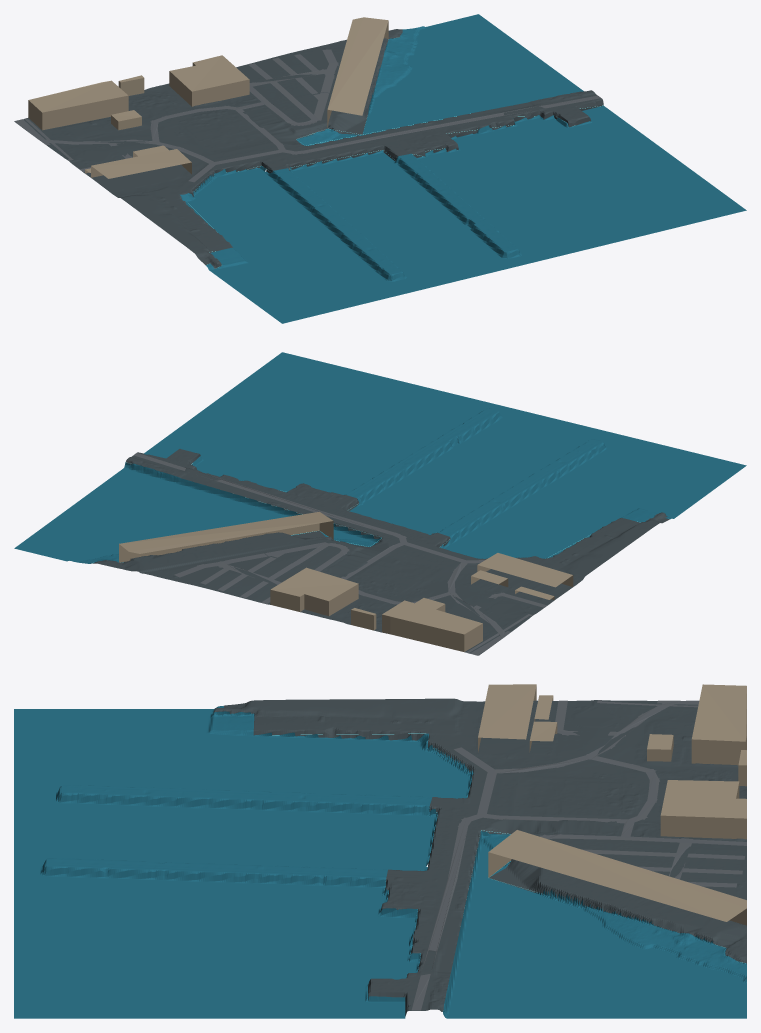
The model's file is epsg26910-1443-10884.lod0.glb.
The picture shows the model from 3 angles, top to bottom: view 1: azimuth 30°, elevation 25°; view 2: azimuth 150°, elevation 25°; view 3: azimuth 270°, elevation 25°; orthographic projection. The views are drawn at different scales.
Visible parts, largest first — view 1: epsg26910-1443-10884-lod0; view 2: epsg26910-1443-10884-lod0; view 3: epsg26910-1443-10884-lod0.
Boxes of the visible parts, x1,y1,x2,y2 form: epsg26910-1443-10884-lod0: (14,14,746,323); epsg26910-1443-10884-lod0: (14,352,746,655); epsg26910-1443-10884-lod0: (14,684,746,1018).
Size of the model in its own units: 384 by 20 by 384.
